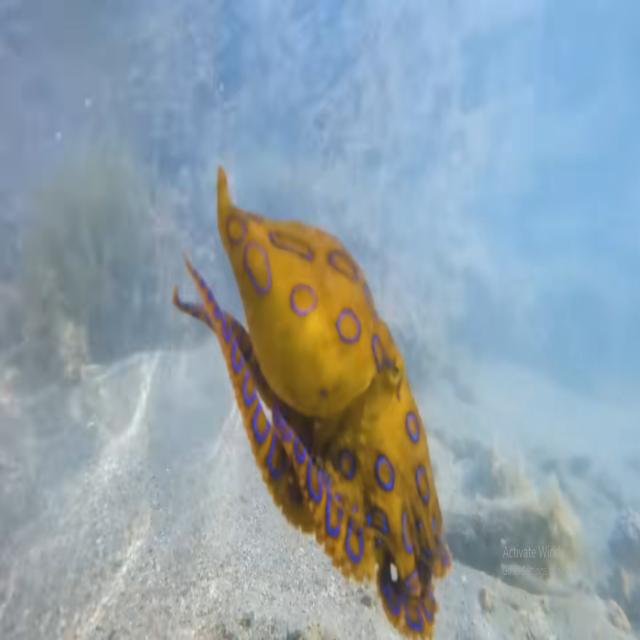blue_ringed_octopus: (171, 162, 454, 639)
